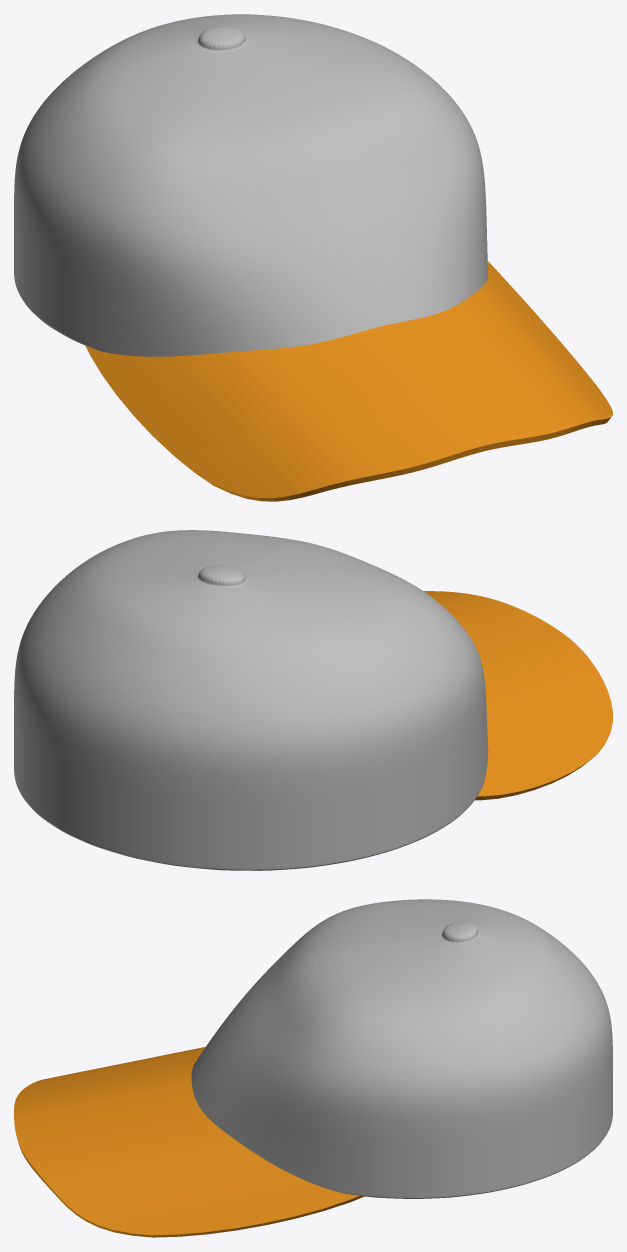
The model's file is baseball-hat.fbx.
3 views of the same model, one above another, from view 1: azimuth 30°, elevation 25°; view 2: azimuth 150°, elevation 25°; view 3: azimuth 270°, elevation 25° (orthographic). The views are drawn at different scales.
Parts seen in each view (by area): view 1: Cap, Rim; view 2: Cap, Rim; view 3: Cap, Rim.
Boxes of the visible parts, box(x1,y1,x2,y2) form: Cap: box(14, 14, 488, 356); Rim: box(85, 261, 612, 501); Cap: box(14, 530, 488, 870); Rim: box(423, 591, 612, 800); Cap: box(191, 899, 612, 1198); Rim: box(14, 1047, 364, 1237).
Bounding box in the file's own units: 199 × 128 × 298.
